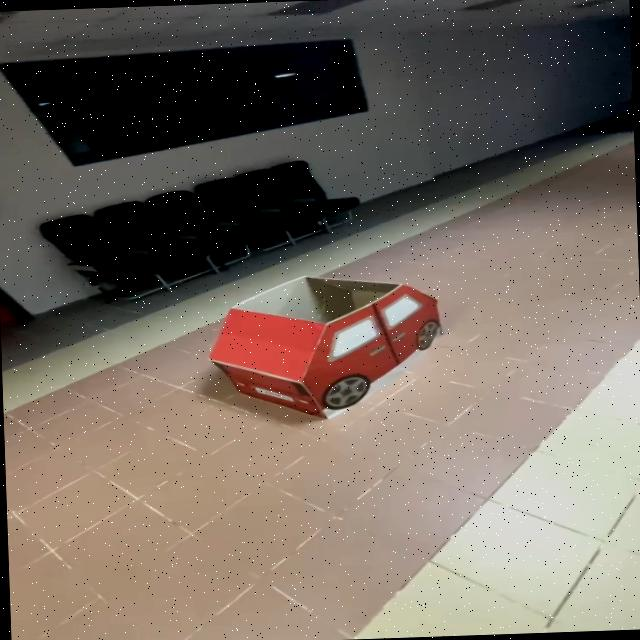red_car: (175, 257, 489, 436)
